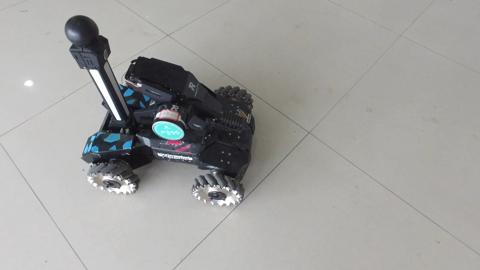chariot: (53, 10, 278, 214)
